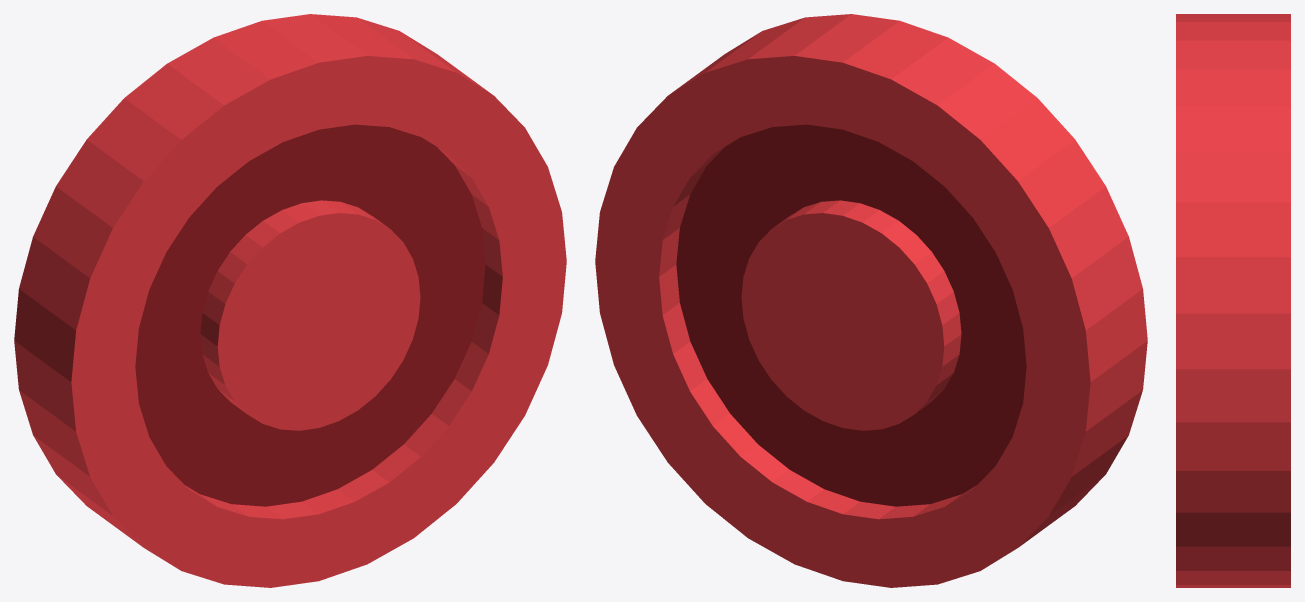
Rendered from punchNote_original.fbx.
3 renders of one model, left to right at view 1: azimuth 30°, elevation 25°; view 2: azimuth 150°, elevation 25°; view 3: azimuth 270°, elevation 25°, orthographic.
Visible parts, largest first — view 1: PUNCH.002; view 2: PUNCH.002; view 3: PUNCH.002.
Part boxes in pixels (x1=…): PUNCH.002: x1=14, y1=14, x2=566, y2=587; PUNCH.002: x1=595, y1=14, x2=1147, y2=587; PUNCH.002: x1=1176, y1=14, x2=1290, y2=587.
Bounding box in the file's own units: 200 × 200 × 40.
1 material, 1 textured.
